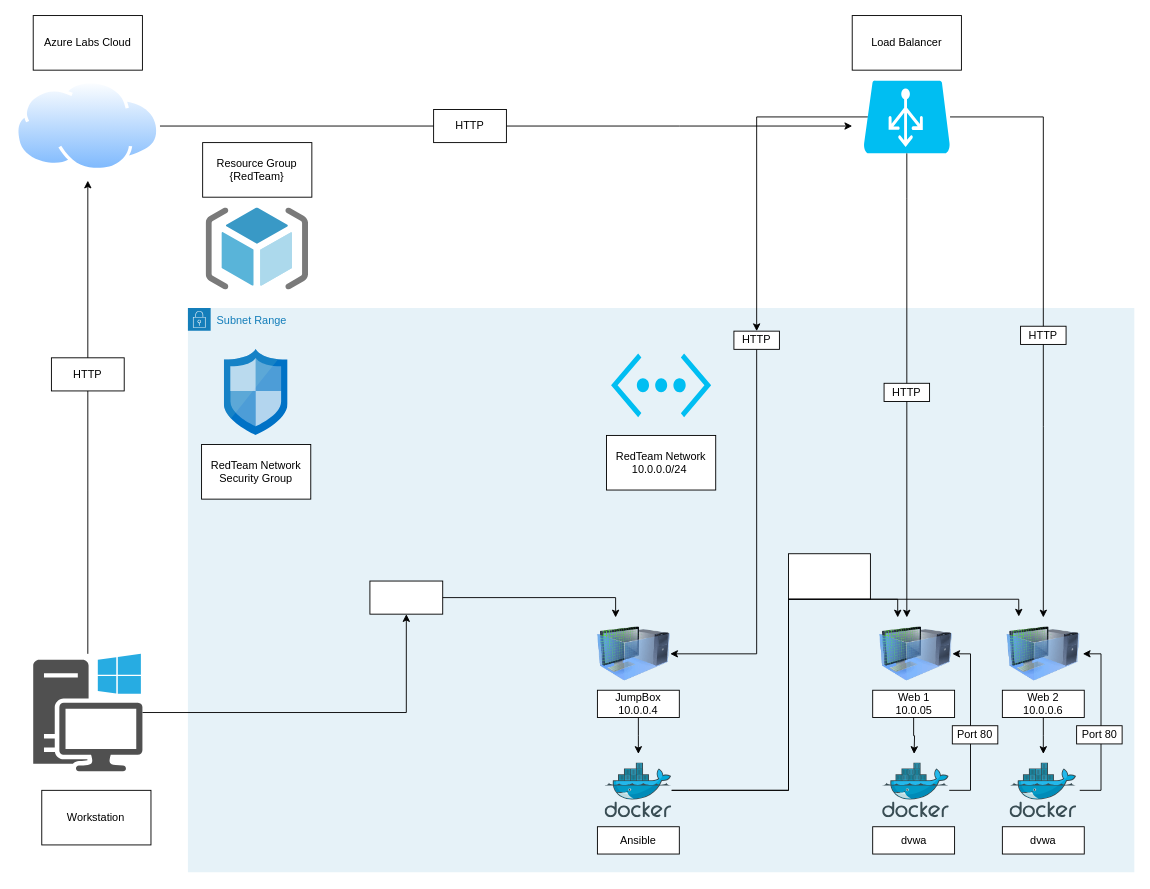
Image size: 1150x889. Some labels were removed from this diagram. Here are the shapes that lost their labels. From the top down, the centre of each, then its label:
the point at 829,576: ansible configuration SSH
the point at 406,597: SSH
